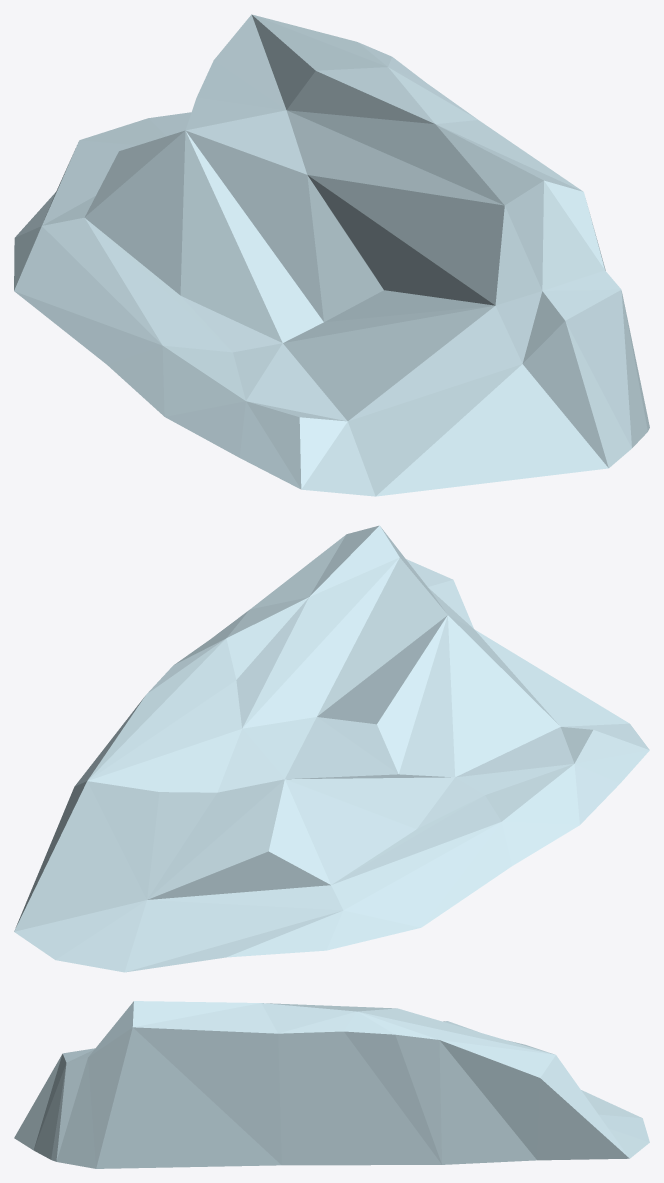
The model's file is SM_Env_GrassPatch_04_Snow.fbx.
3 renders of one model, top to bottom at view 1: azimuth 30°, elevation 25°; view 2: azimuth 150°, elevation 25°; view 3: azimuth 270°, elevation 25°, orthographic. The views are drawn at different scales.
Visible parts, largest first — view 1: SM_Env_GrassPatch_04_Snow; view 2: SM_Env_GrassPatch_04_Snow; view 3: SM_Env_GrassPatch_04_Snow.
Boxes of the visible parts, box(x1,y1,x2,y2) form: SM_Env_GrassPatch_04_Snow: box(14, 14, 649, 496); SM_Env_GrassPatch_04_Snow: box(14, 525, 649, 972); SM_Env_GrassPatch_04_Snow: box(14, 1001, 649, 1168).
Size of the model in its own units: 78.89 by 43.55 by 173.
